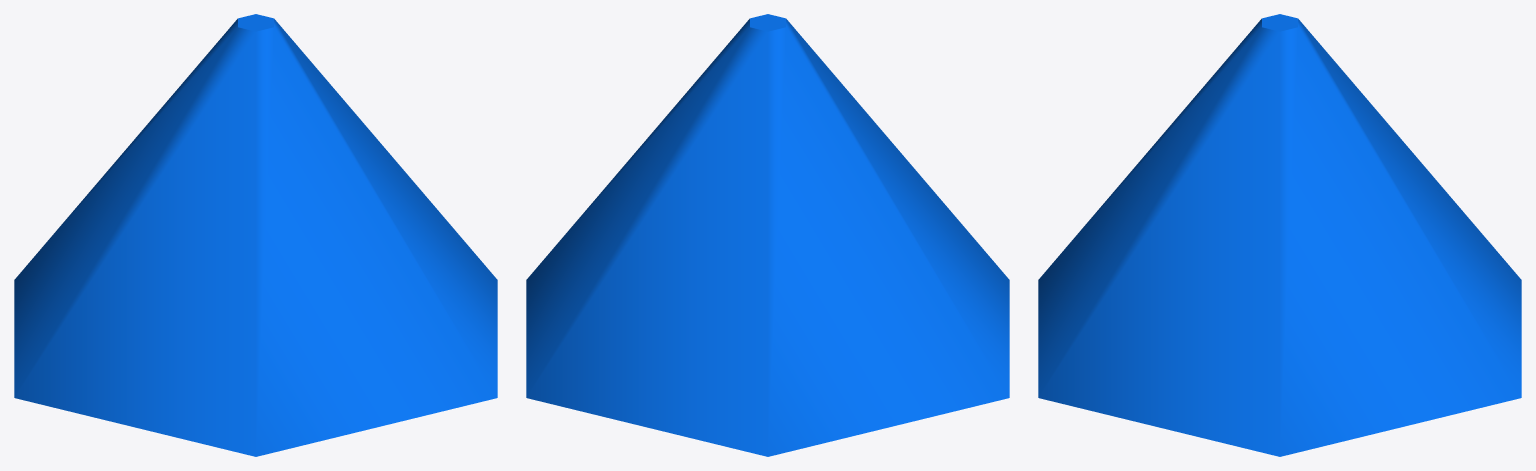
File: Castle_Block_F_03.FBX
3 views of the same model, side by side, from view 1: azimuth 30°, elevation 25°; view 2: azimuth 150°, elevation 25°; view 3: azimuth 270°, elevation 25° (orthographic).
Parts seen in each view (by area): view 1: Castle_Block_F_02; view 2: Castle_Block_F_02; view 3: Castle_Block_F_02.
Boxes of the visible parts, x1,y1,x2,y2 form: Castle_Block_F_02: (14, 14, 497, 456); Castle_Block_F_02: (526, 14, 1009, 456); Castle_Block_F_02: (1038, 14, 1521, 456).
Size of the model in its own units: 40 by 25 by 34.64.
